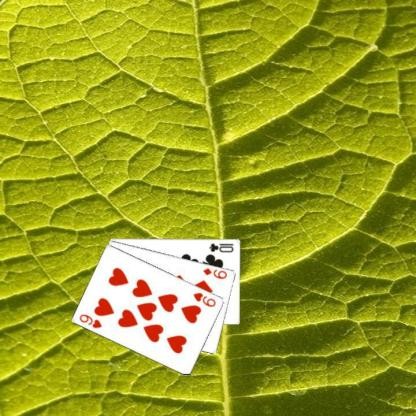10C: (207, 240, 234, 253)
9D: (201, 265, 228, 280)
9H: (191, 290, 217, 308), (77, 312, 103, 330)
